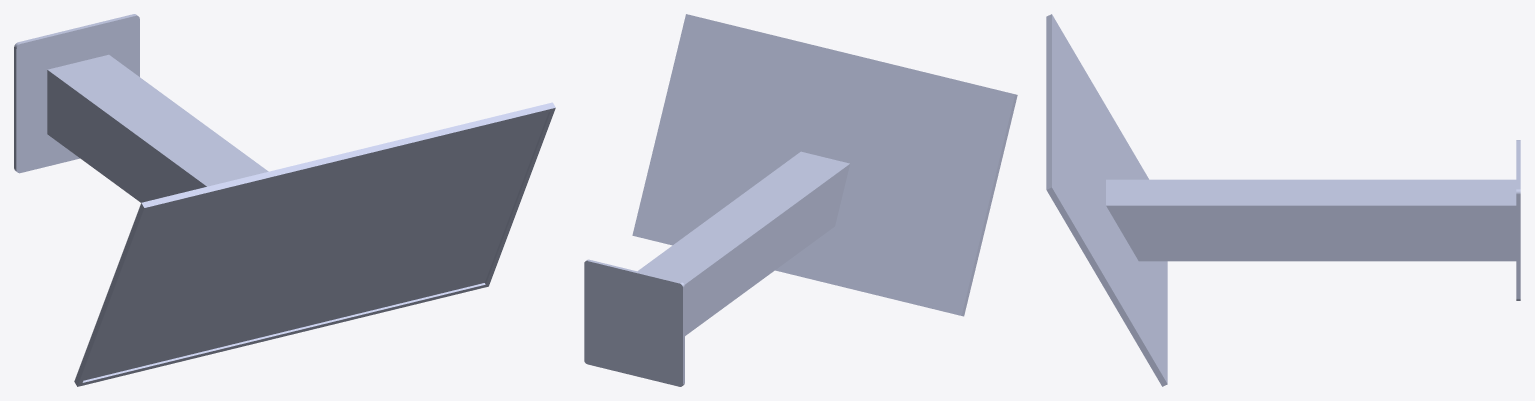
Rendered from Plaque.fbx.
3 views of the same model, side by side, from view 1: azimuth 30°, elevation 25°; view 2: azimuth 150°, elevation 25°; view 3: azimuth 270°, elevation 25° (orthographic). The views are drawn at different scales.
Parts seen in each view (by area): view 1: Part; view 2: Part; view 3: Part.
Part boxes in pixels (<box>): Part: <box>14,14,555,386</box>; Part: <box>584,14,1017,386</box>; Part: <box>1046,14,1520,386</box>.
Size of the model in its own units: 100 by 53.65 by 115.
